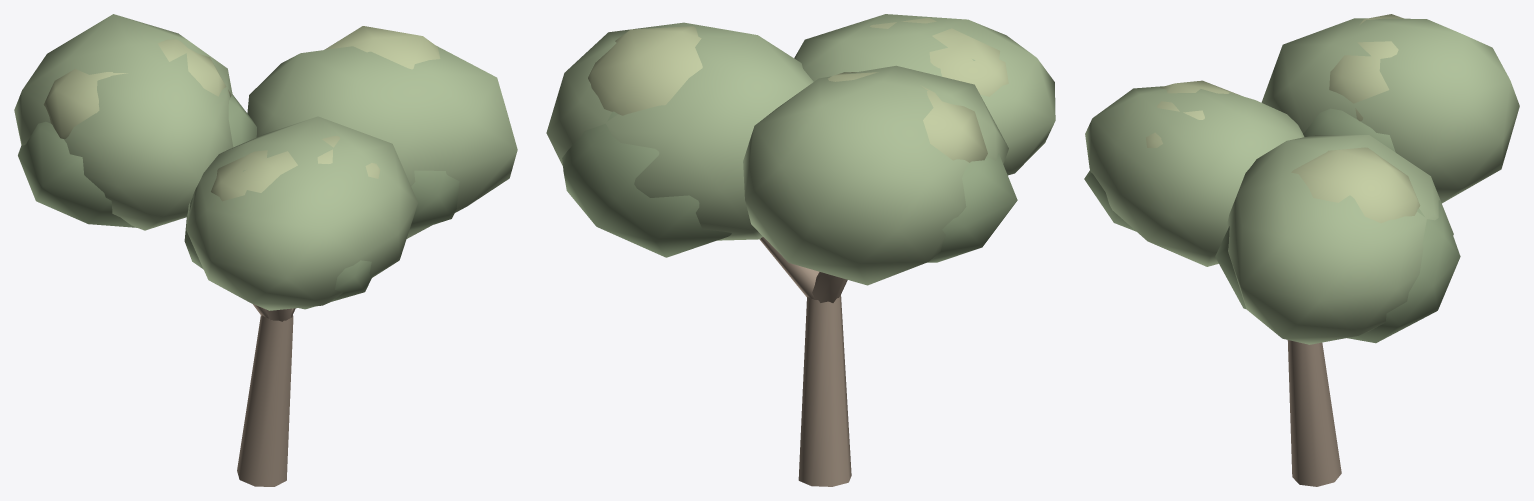
The model's file is tree_ceibo_8.glb.
3 renders of one model, left to right at view 1: azimuth 30°, elevation 25°; view 2: azimuth 150°, elevation 25°; view 3: azimuth 270°, elevation 25°, orthographic. The views are drawn at different scales.
Visible parts, largest first — view 1: tree_ceibo_8.glb; view 2: tree_ceibo_8.glb; view 3: tree_ceibo_8.glb.
Part boxes in pixels (x1,y1,x2,y2): tree_ceibo_8.glb: (14, 14, 517, 486); tree_ceibo_8.glb: (546, 14, 1055, 486); tree_ceibo_8.glb: (1084, 14, 1519, 486).
Size of the model in its own units: 4.99 by 4.55 by 4.38.
